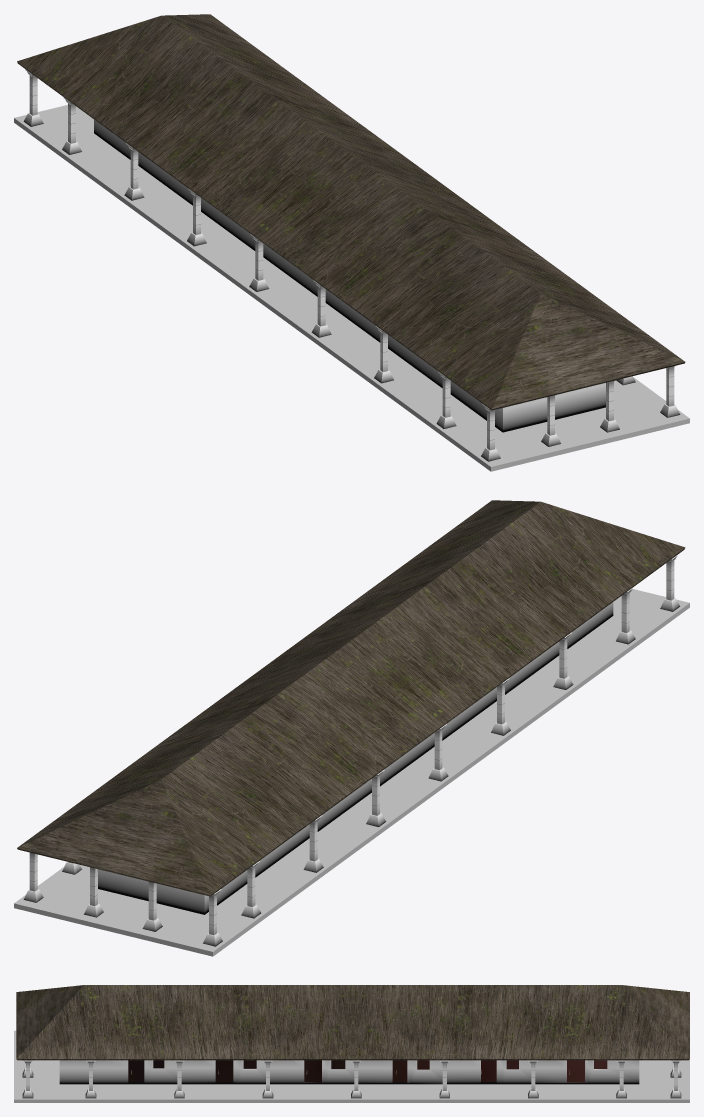
File: CasasIndios.fbx
3 views of the same model, one above another, from view 1: azimuth 30°, elevation 25°; view 2: azimuth 150°, elevation 25°; view 3: azimuth 270°, elevation 25° (orthographic). The views are drawn at different scales.
Visible parts, largest first — view 1: Cube.003, Cube.005, Cube.004, Cube, Cube.008, Cube.001; view 2: Cube.003, Cube.005, Cube.004, Cube, Cube.006, Cube.009; view 3: Cube.003, Cube.005, Cube.004, Cube, Cube.006, Cube.008.
Part boxes in pixels (x1,y1,x2,y2): Cube.003: [17, 14, 685, 410]; Cube.005: [14, 105, 689, 471]; Cube.004: [94, 119, 605, 432]; Cube: [62, 97, 635, 428]; Cube.008: [481, 366, 680, 461]; Cube.001: [541, 380, 619, 446]; Cube.003: [17, 500, 685, 896]; Cube.005: [14, 589, 689, 956]; Cube.004: [98, 602, 613, 914]; Cube: [62, 587, 635, 918]; Cube.006: [23, 852, 222, 946]; Cube.009: [84, 867, 162, 931]; Cube.003: [16, 985, 689, 1060]; Cube.005: [14, 1030, 689, 1102]; Cube.004: [59, 1060, 639, 1084]; Cube: [85, 1060, 626, 1098]; Cube.006: [670, 1060, 681, 1098]; Cube.008: [22, 1060, 33, 1098].
Size of the model in its own units: 900 by 509 by 3736.
